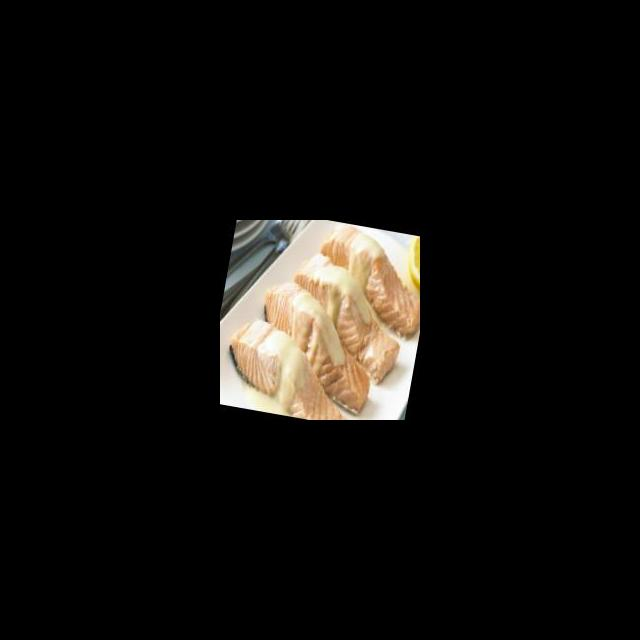ca hoi: (274, 246, 414, 390), (248, 276, 388, 418), (220, 308, 368, 420), (306, 220, 420, 346)
ca hoi sot pho mai kem: (233, 235, 407, 420)
pho mai: (256, 331, 306, 414), (308, 254, 352, 302), (290, 285, 322, 346), (347, 232, 379, 282)
